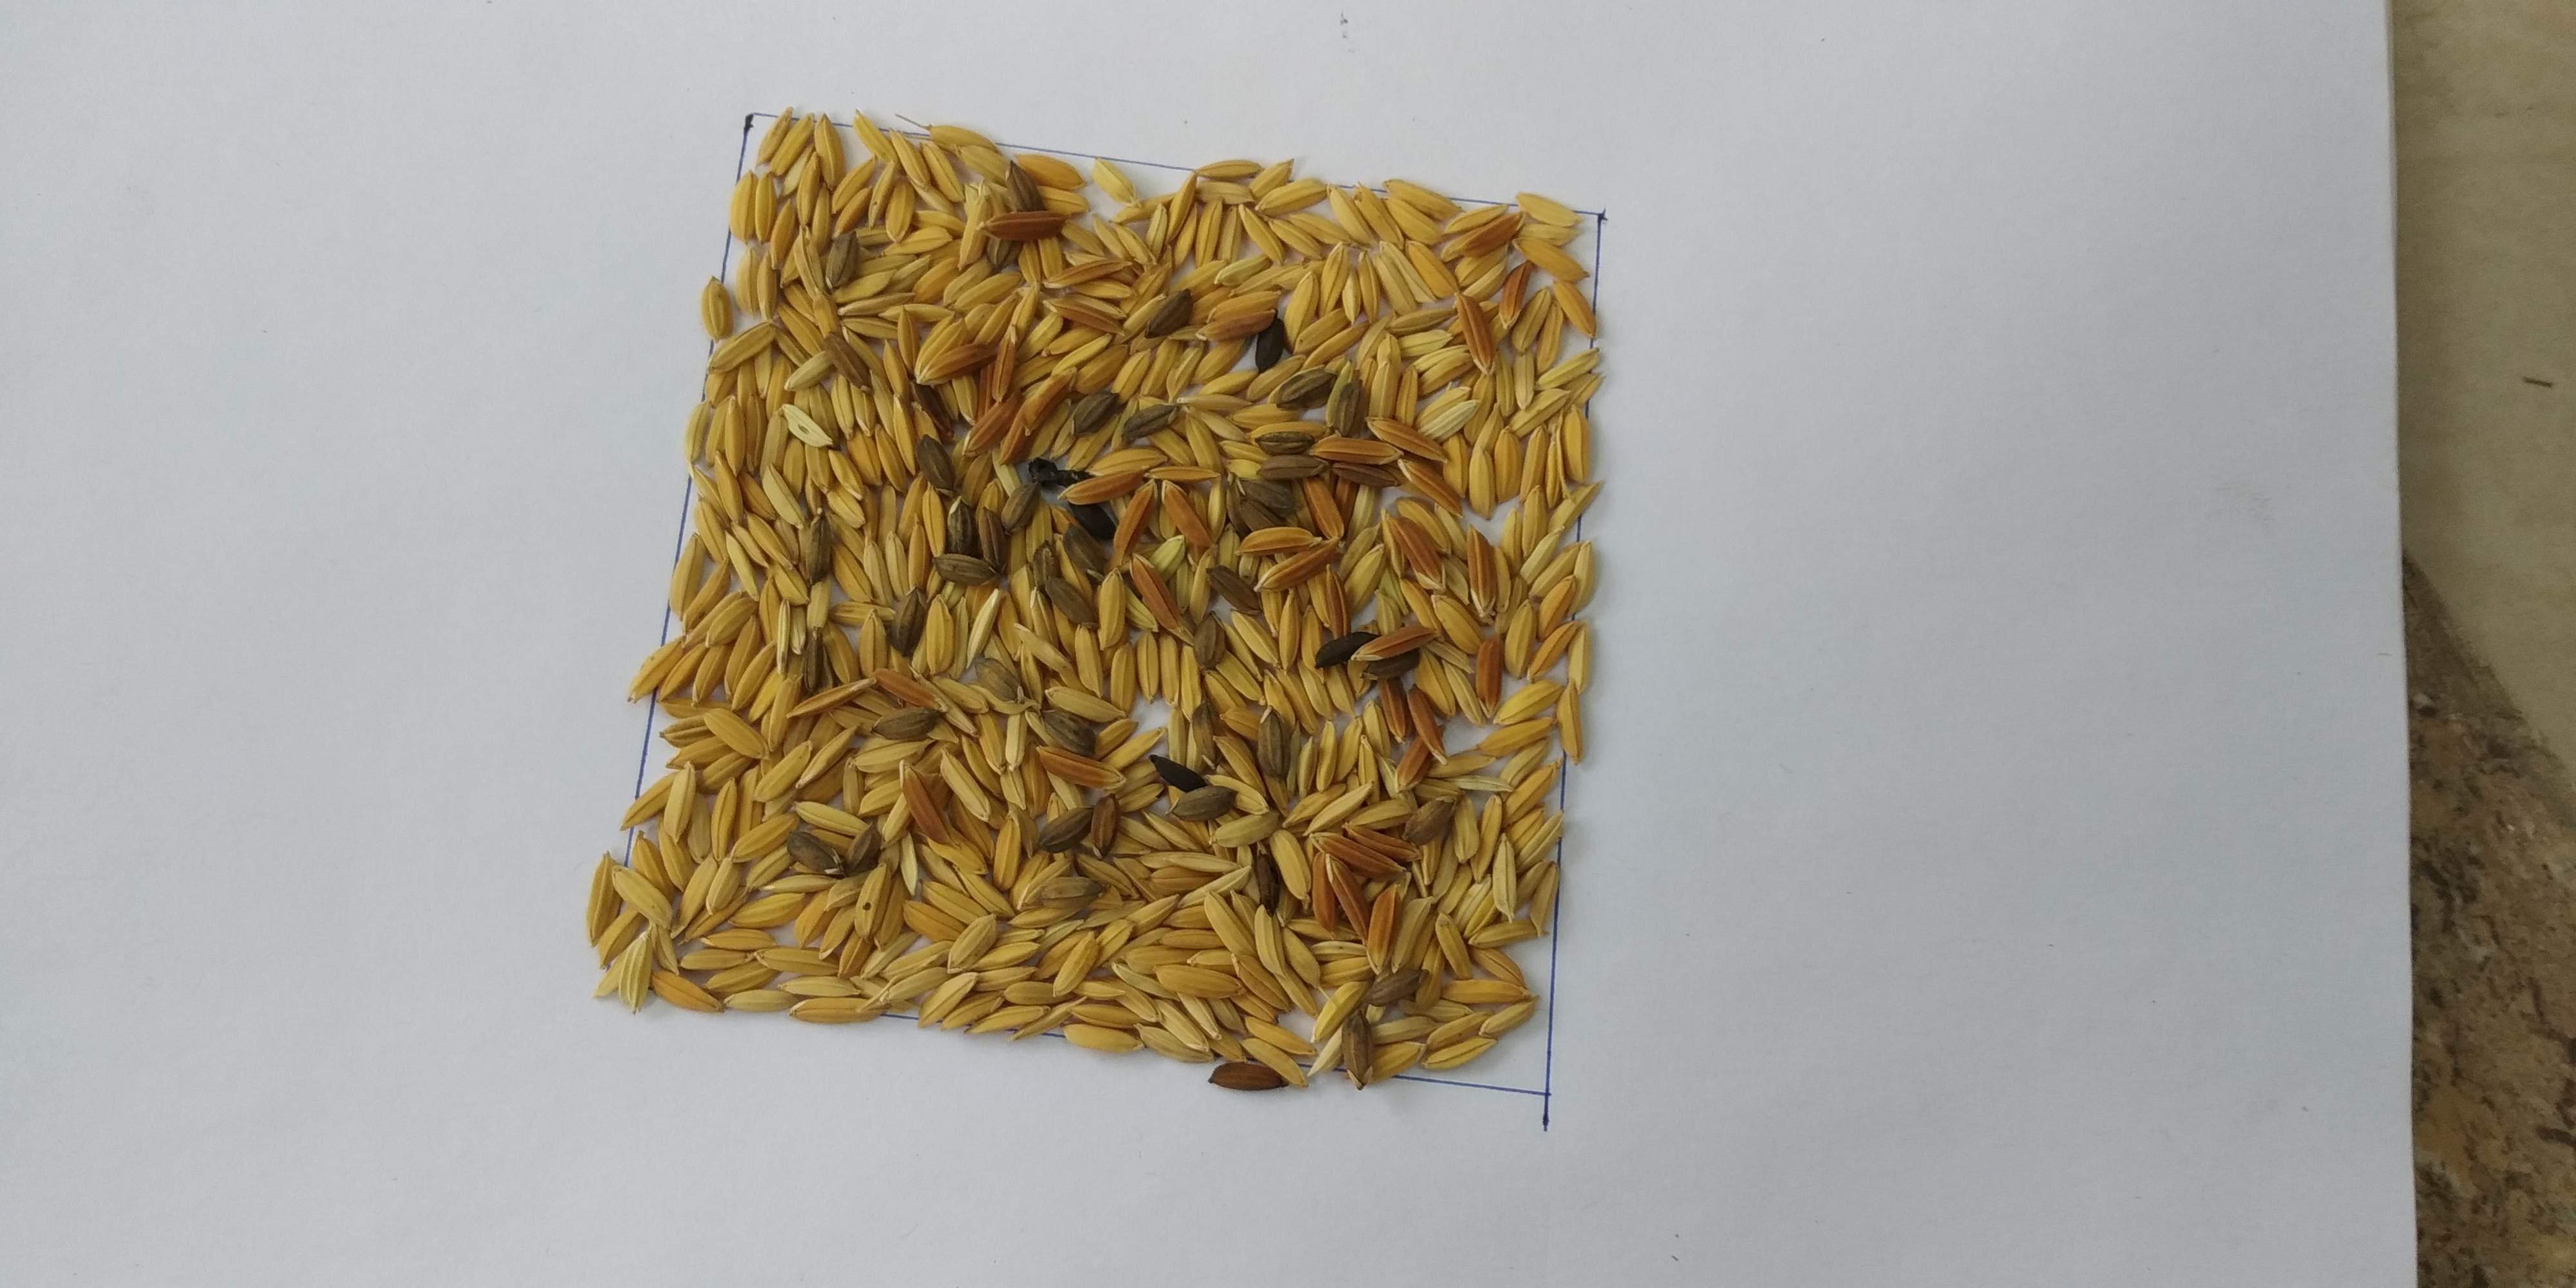impure: (746, 207, 1525, 1004)
